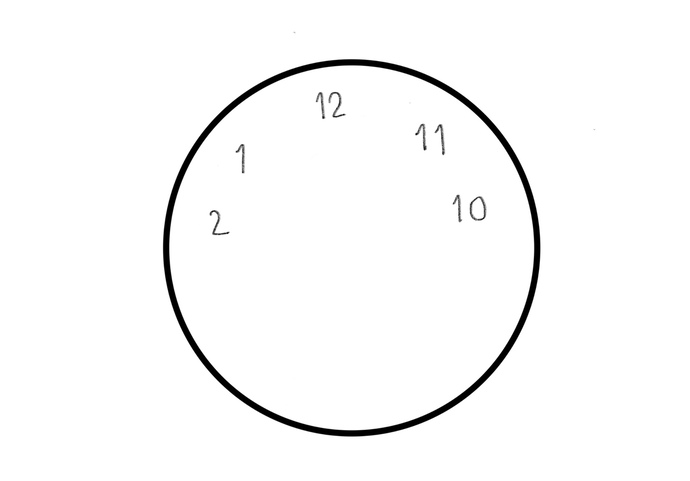eleven: (412, 119, 452, 159)
one: (235, 135, 250, 179)
ten: (449, 188, 491, 229)
twelve: (310, 87, 350, 124)
two: (207, 208, 230, 237)
